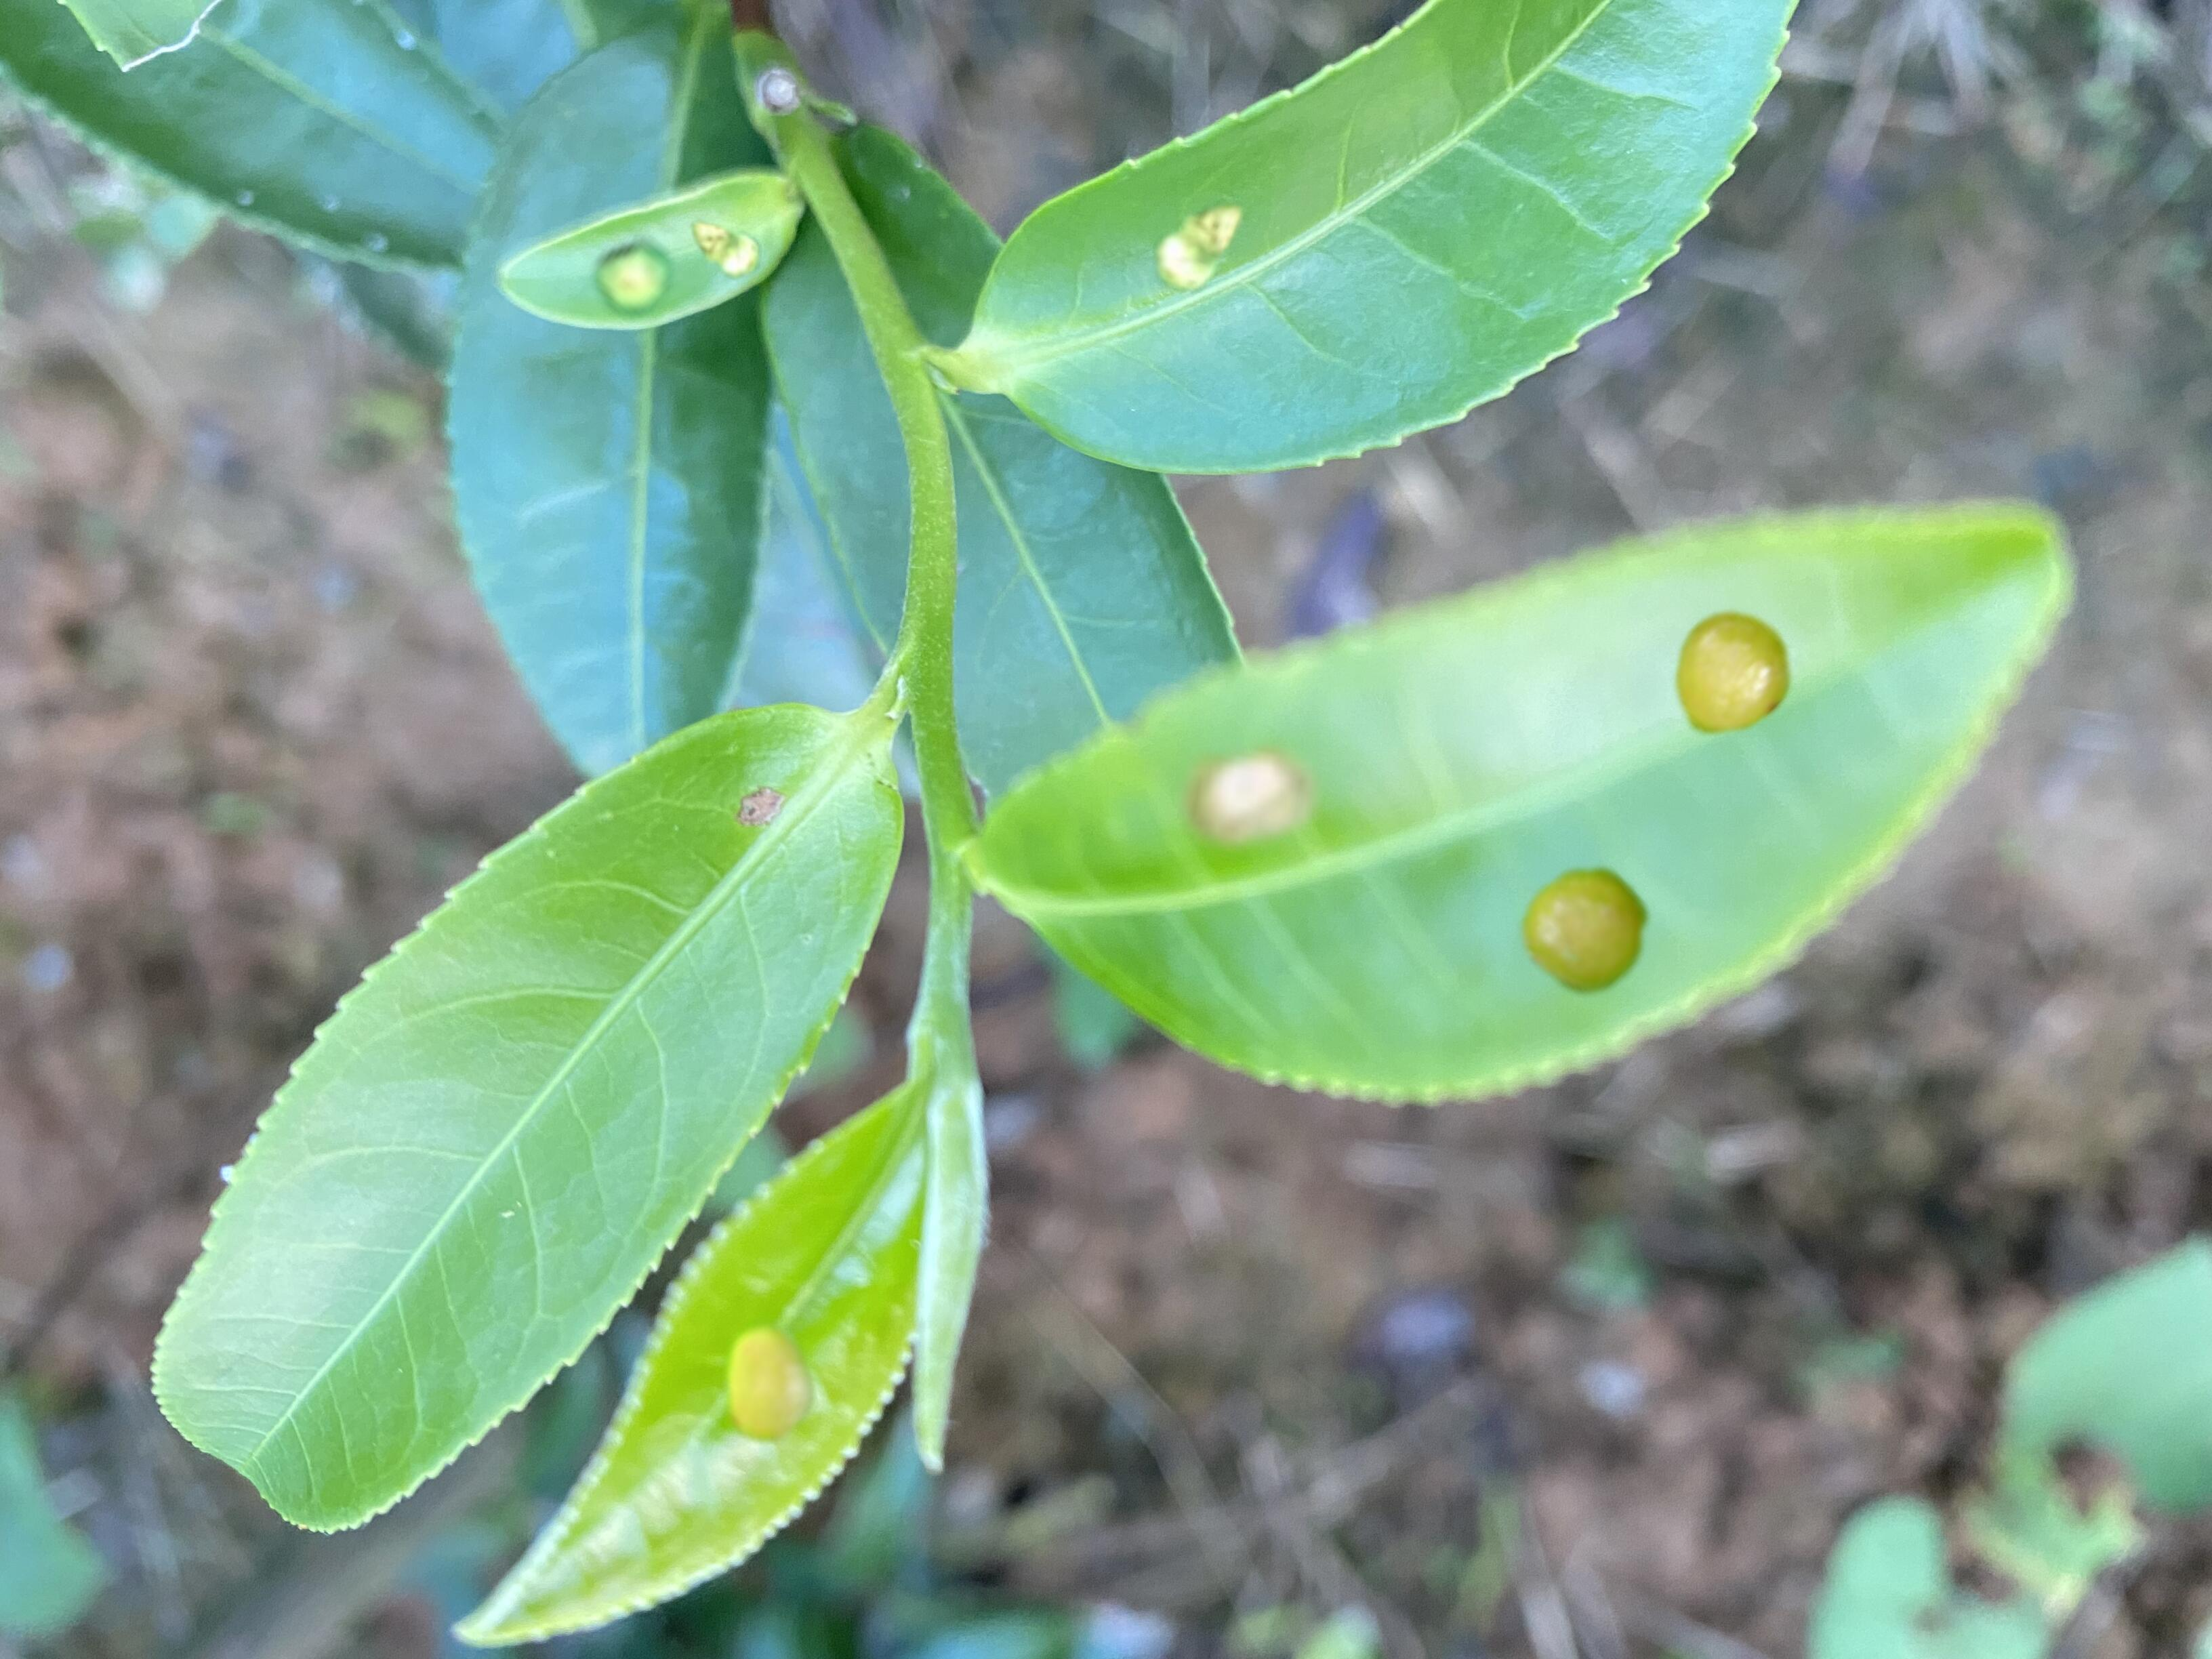chabing_high: (975, 497, 2066, 1114), (498, 173, 805, 328)
chabing_low: (968, 2, 1804, 476), (451, 1086, 932, 1650)
tanju_low: (152, 697, 911, 1539)
